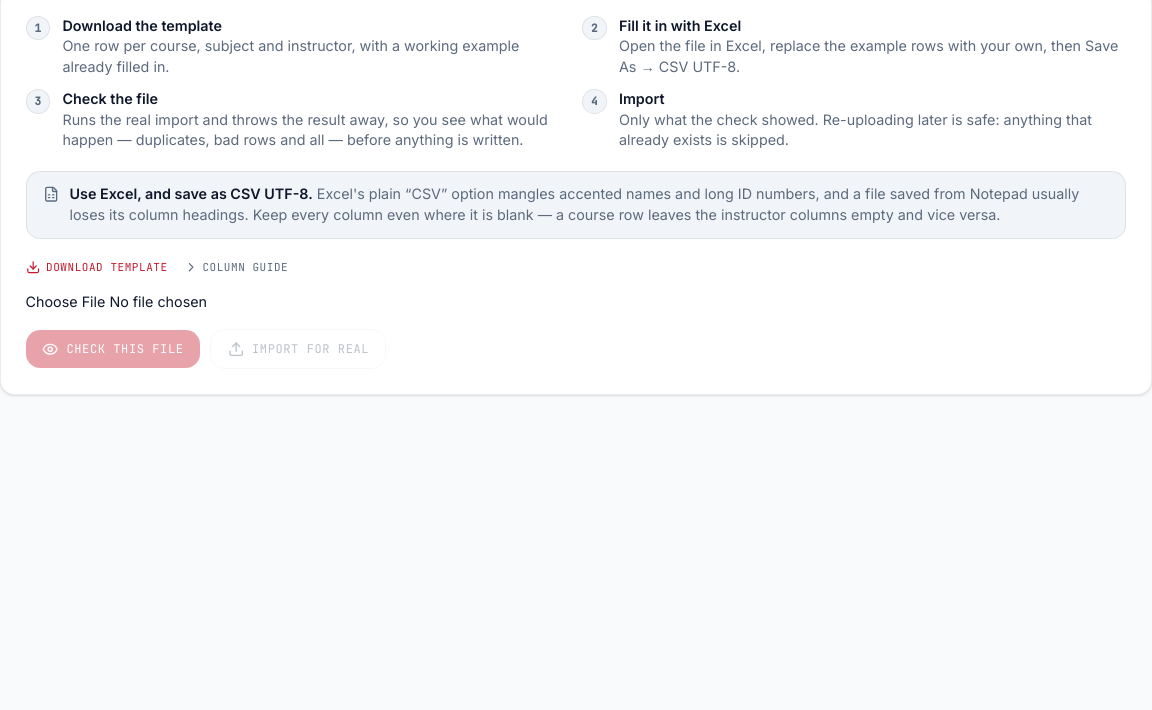
Test: SetupImportPanel › explains the columns on request
Click the button "Column guide" at (236, 267), box x1=184 y1=259 x2=288 y2=276
(page scrolled)
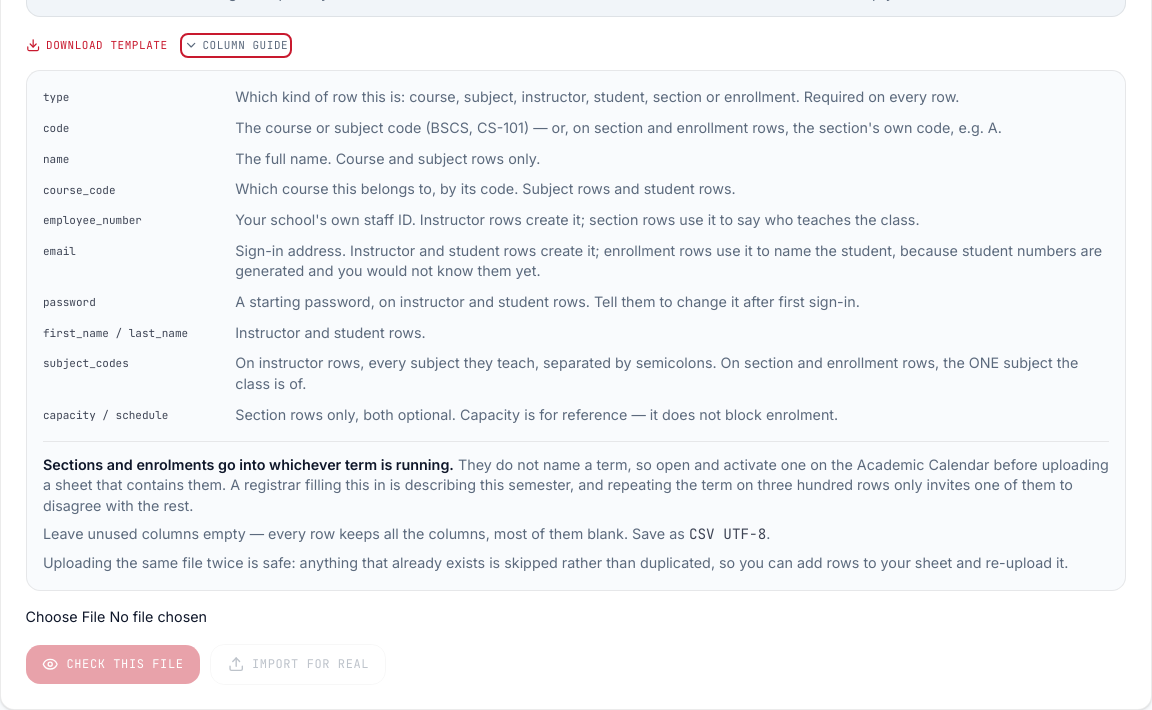
Now the text "separated by semicolons" is shown, box x1=235 y1=354 x2=1078 y2=392
Now the text "skipped rather than duplicated" is shown, box x1=43 y1=554 x2=1068 y2=571
